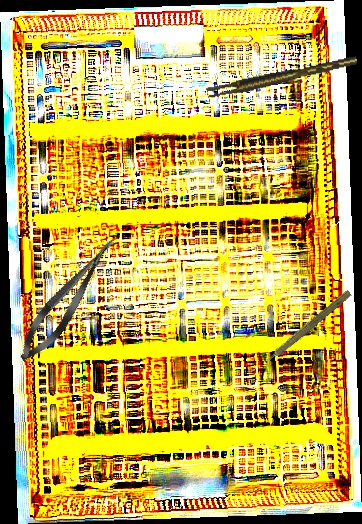Handpiece: (256, 285, 354, 371)
Micro Scissor: (10, 228, 127, 370)
Tissue Forceps: (205, 56, 359, 99)
